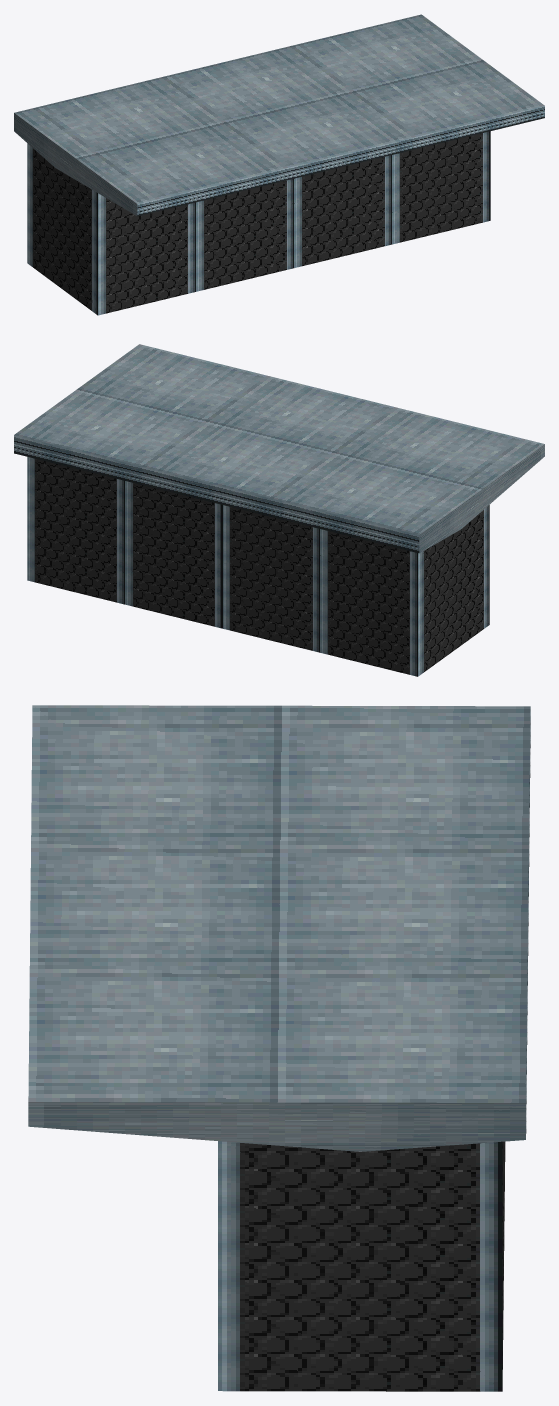
File: primary_066.glb
3 views of the same model, one above another, from view 1: azimuth 30°, elevation 25°; view 2: azimuth 150°, elevation 25°; view 3: azimuth 270°, elevation 25° (orthographic). The views are drawn at different scales.
Parts seen in each view (by area): view 1: Object; view 2: Object; view 3: Object.
Part boxes in pixels (x1=…): Object: x1=14, y1=14, x2=544, y2=315; Object: x1=14, y1=344, x2=544, y2=676; Object: x1=28, y1=705, x2=530, y2=1391.
Bounding box in the file's own units: 2.94 × 1.02 × 1.57.
Materials: 3 (3 with a texture image).
